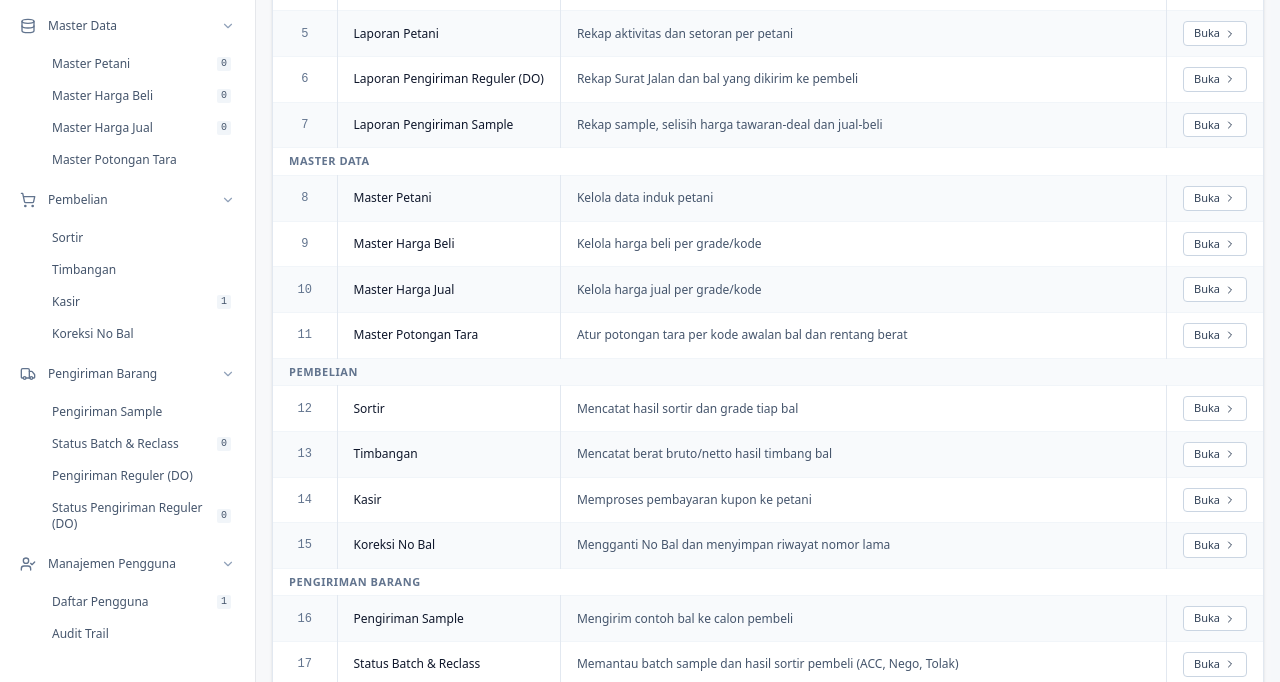
Scenario: Koreksi No Bal sampai Laporan Bal › server belum punya endpoint: penggantian tetap berlaku di perangkat ini dan menunggu di antrean; kupon tidak berubah
The image size is (1280, 682).
(page scrolled)
Click the button "Koreksi No Bal" at (142, 334), box [44,320,239,348]
(page scrolled)
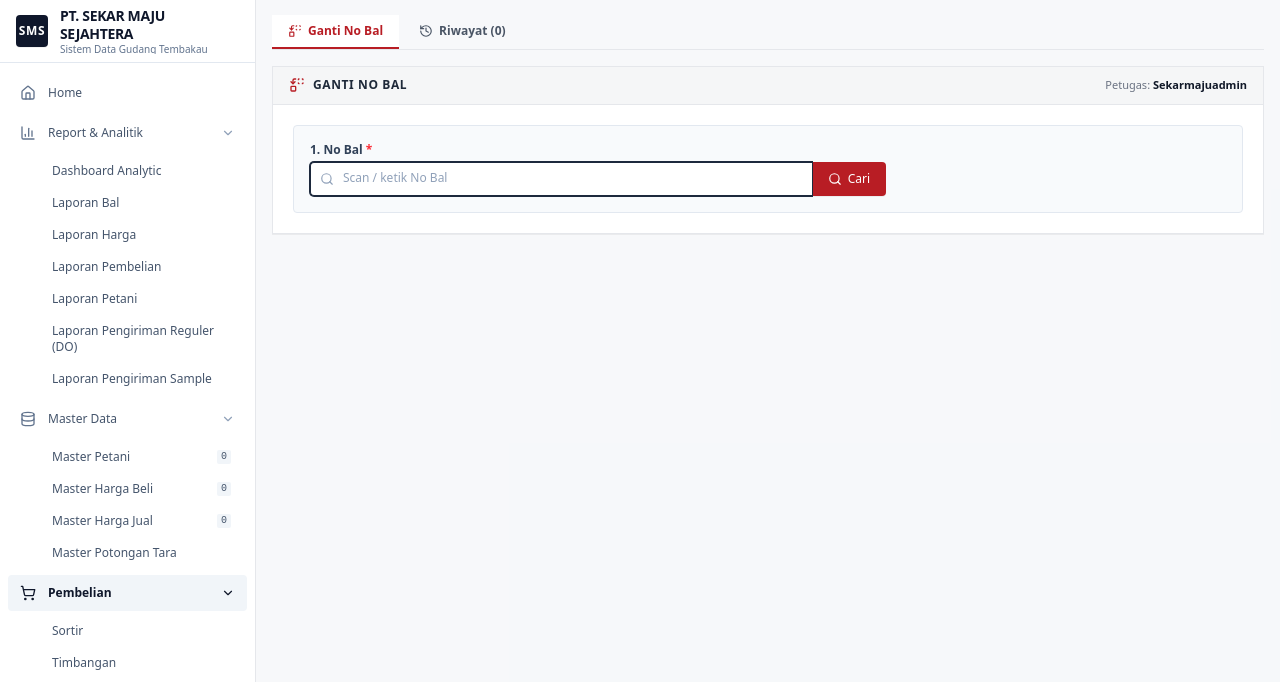
Type "SB0011" into the field with placeholder "Scan / ketik No Bal" at (561, 178), box [310,162,812,196]
Then press Enter
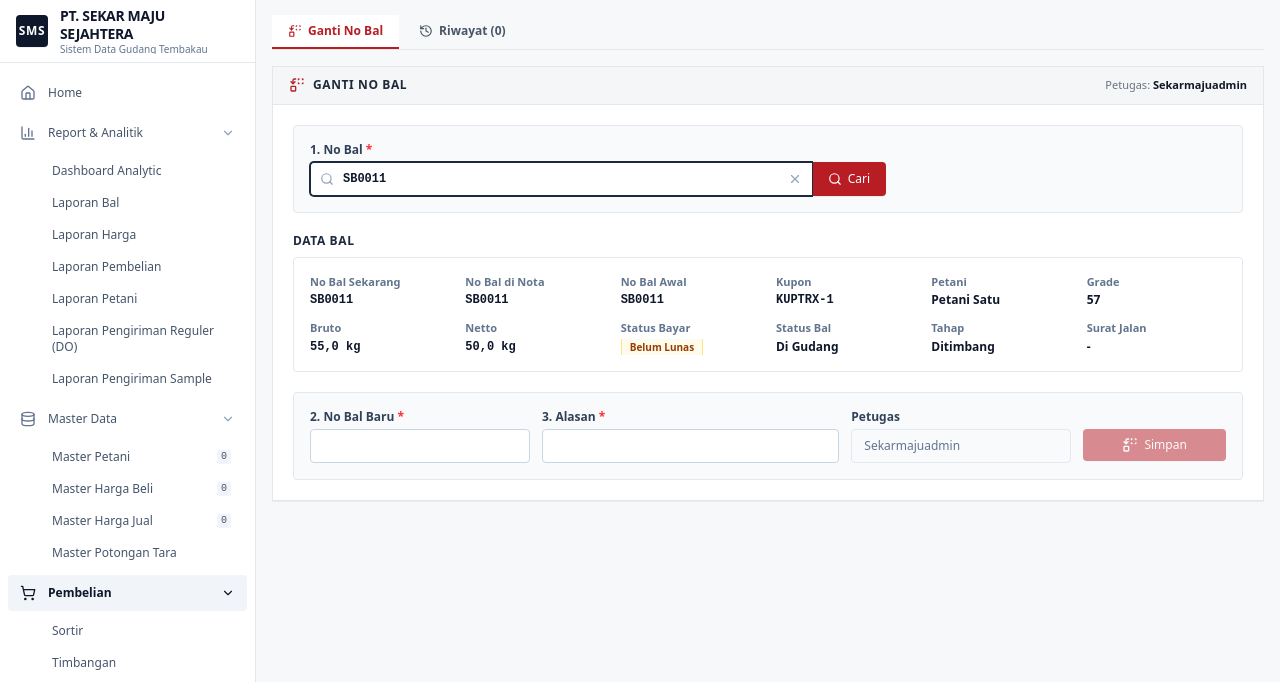
Type "SB0999" into the field labelled "2. No Bal Baru *" at (420, 446), box [310,428,530,462]
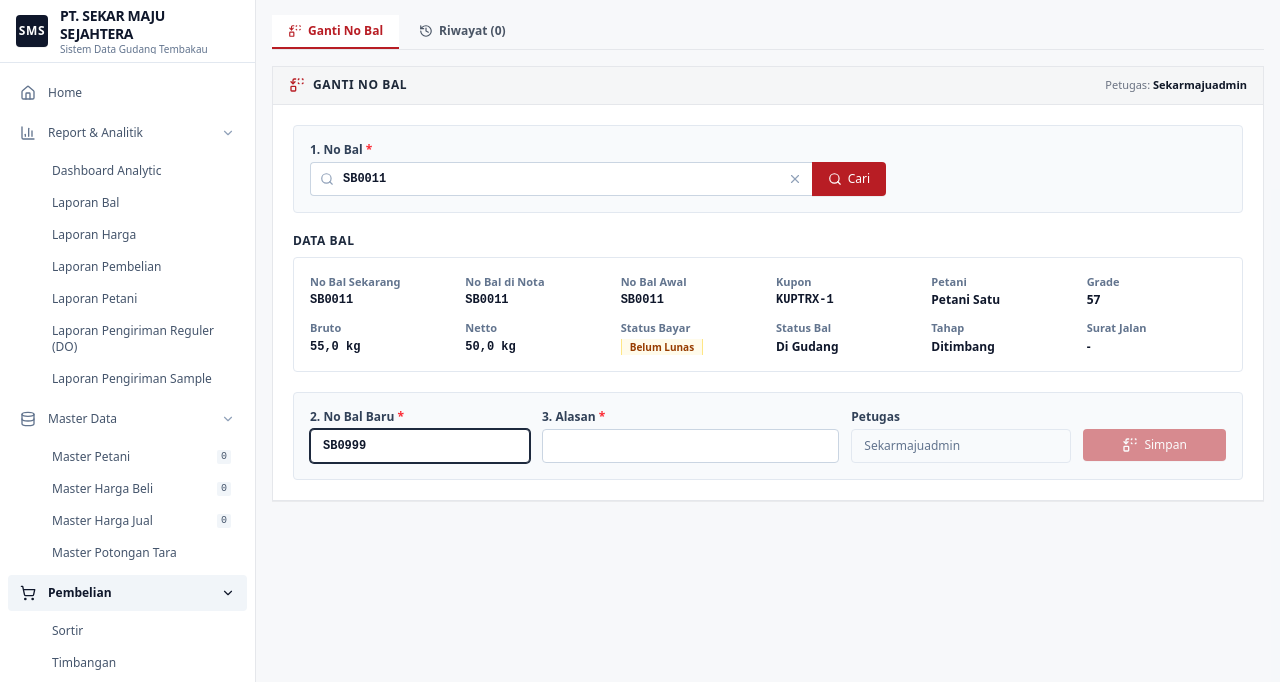
Type "uji" into the field labelled "3. Alasan *" at (691, 446), box [542,428,839,462]
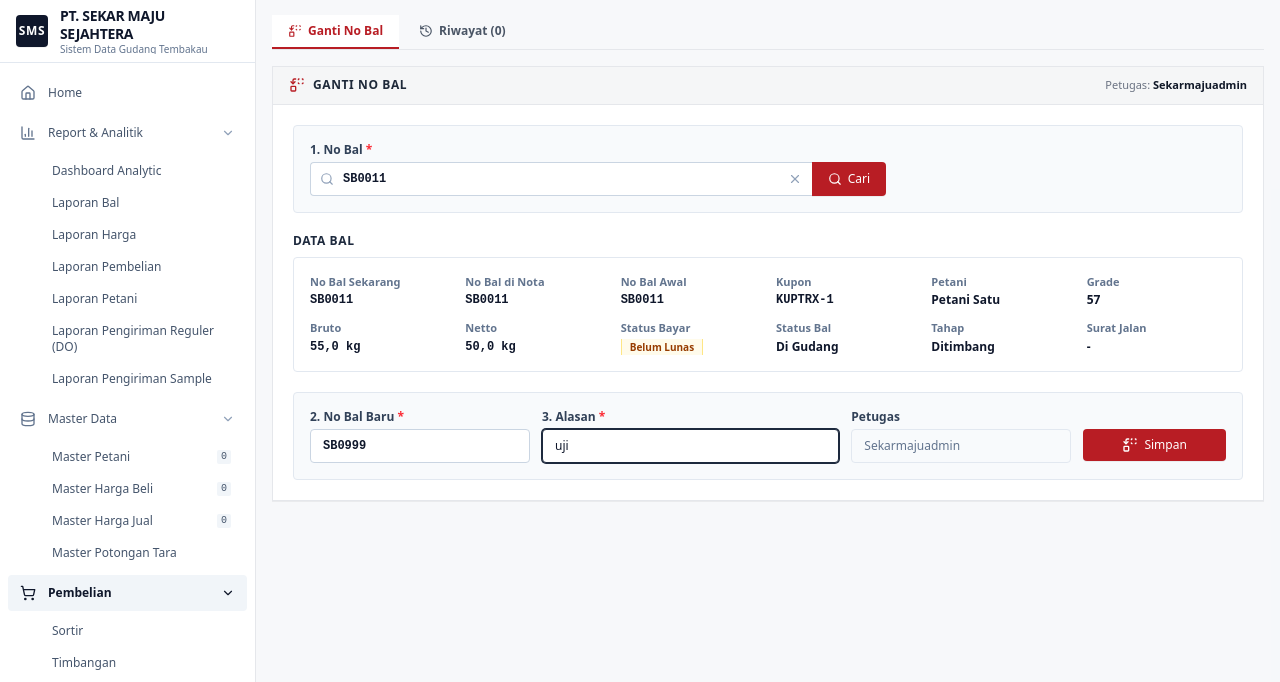
Click the button "Simpan" at (1155, 444), box [1083,428,1226,460]
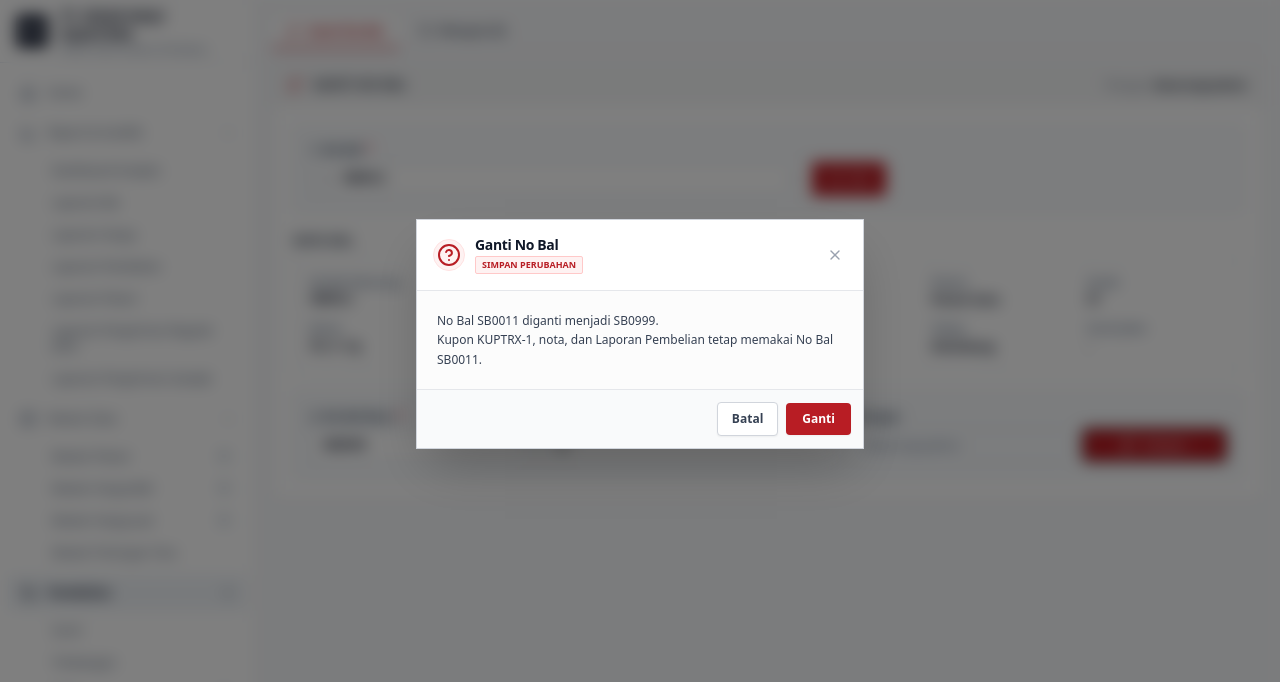
Click the button "Ganti" at (819, 419), box [786,403,851,435]
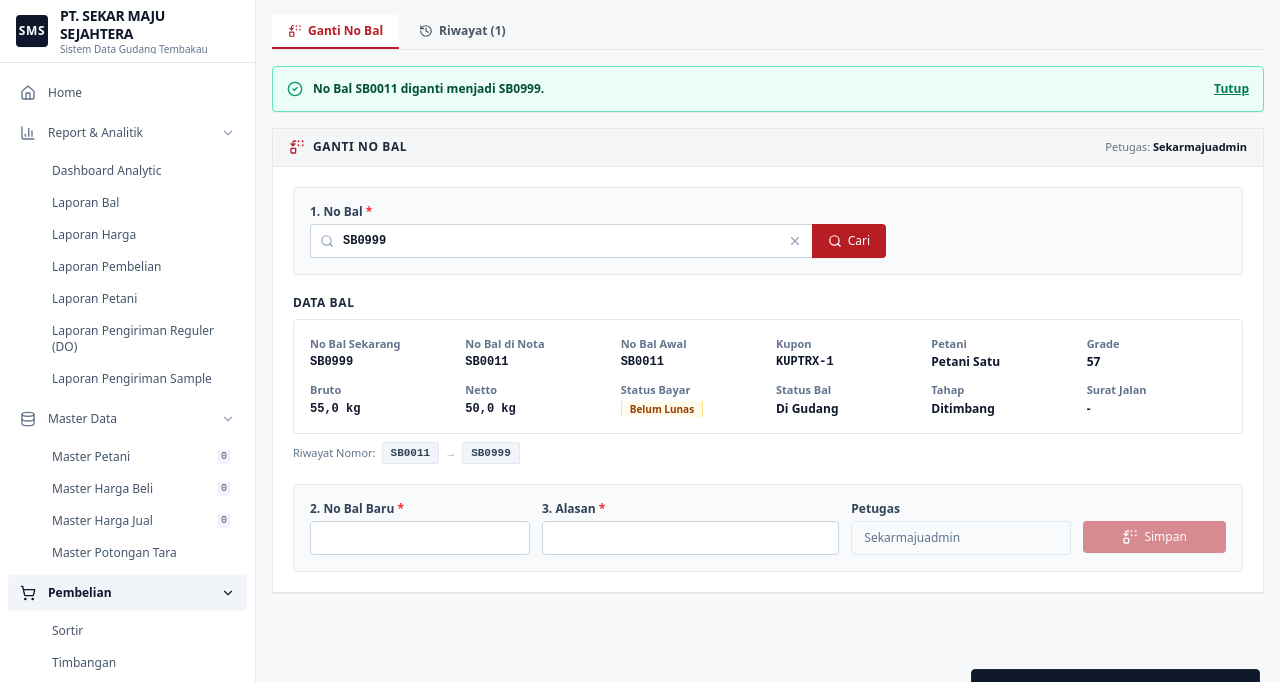
Expected: the text "SB0011" below "No Bal di Nota" is shown, [465,355,508,369]
Expected: the text "SB0999" below "No Bal Sekarang" is shown, [310,355,353,369]
